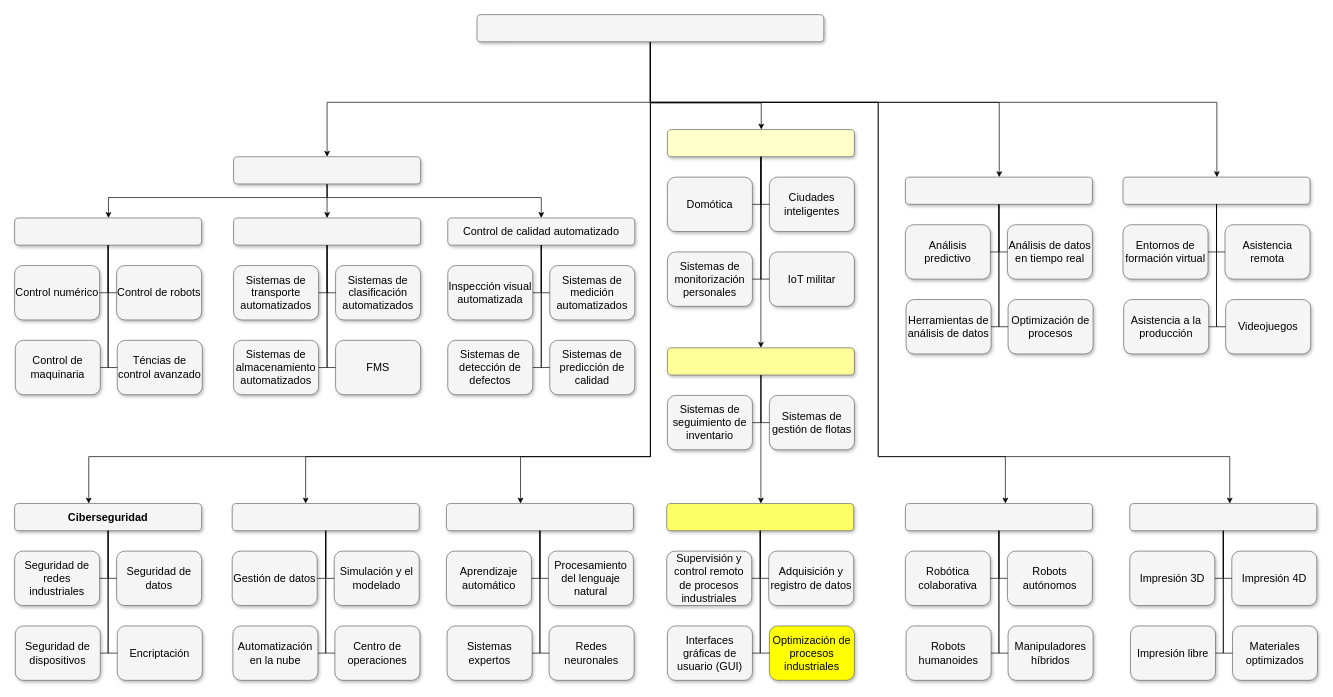
Image size: 1333x697. Some labels were removed from this diagram. The centre of each missing label's shape, as x and y in pixels:
"Automatización" belongs at point (327, 171).
"Automatización de procesos logísticos" belongs at point (327, 232).
"Big Data y Análisis" belongs at point (999, 191).
"Cloud computing" belongs at point (326, 518).
"Control de procesos industriales" belongs at point (108, 232).
"IIoT (Internet de las cosas industrial)" belongs at point (761, 362).
"Industria 4.0" belongs at point (651, 29).
"Inteligencia Artificial" belongs at point (540, 518).
"IoT" belongs at point (761, 144).
"Manufactura aditiva" belongs at point (1223, 518).
"Realidad aumentada y virtual" belongs at point (1217, 191).
"Robótica" belongs at point (999, 518).
"Sistemas SCADA (Supervisory Control and Data Acquisition)" belongs at point (760, 518).
